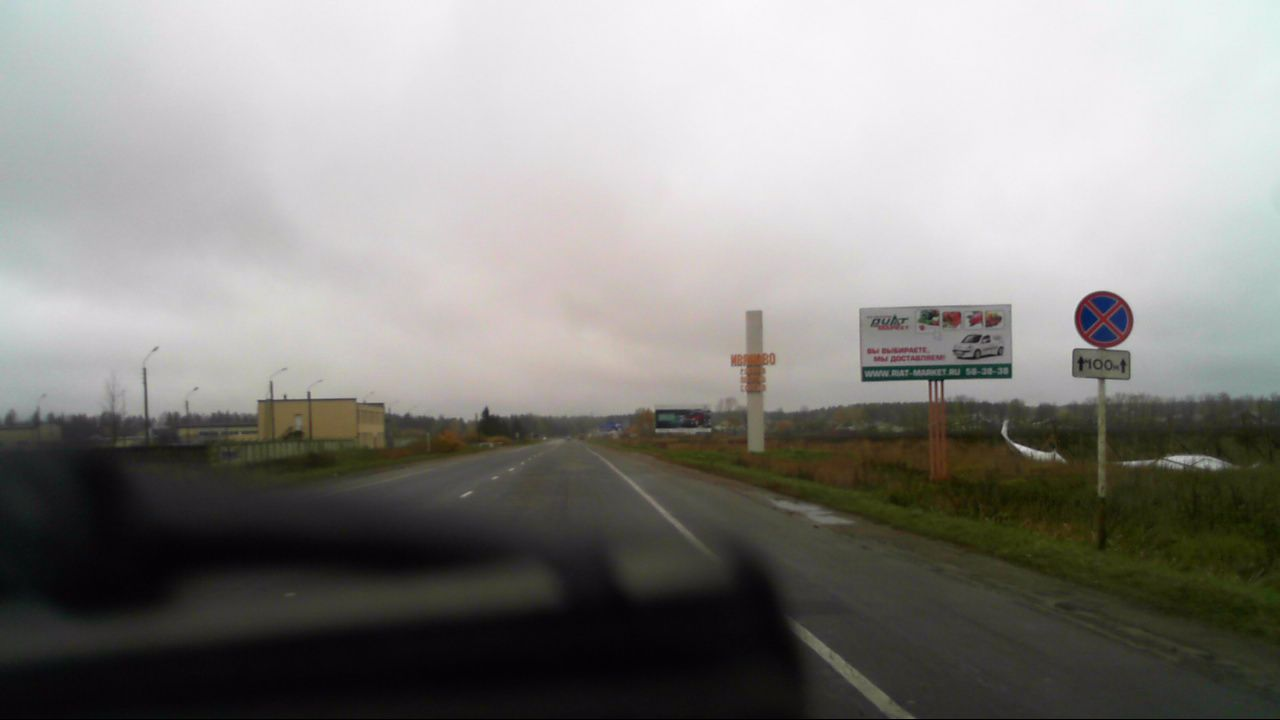No Parking: (1074, 292, 1133, 347)
